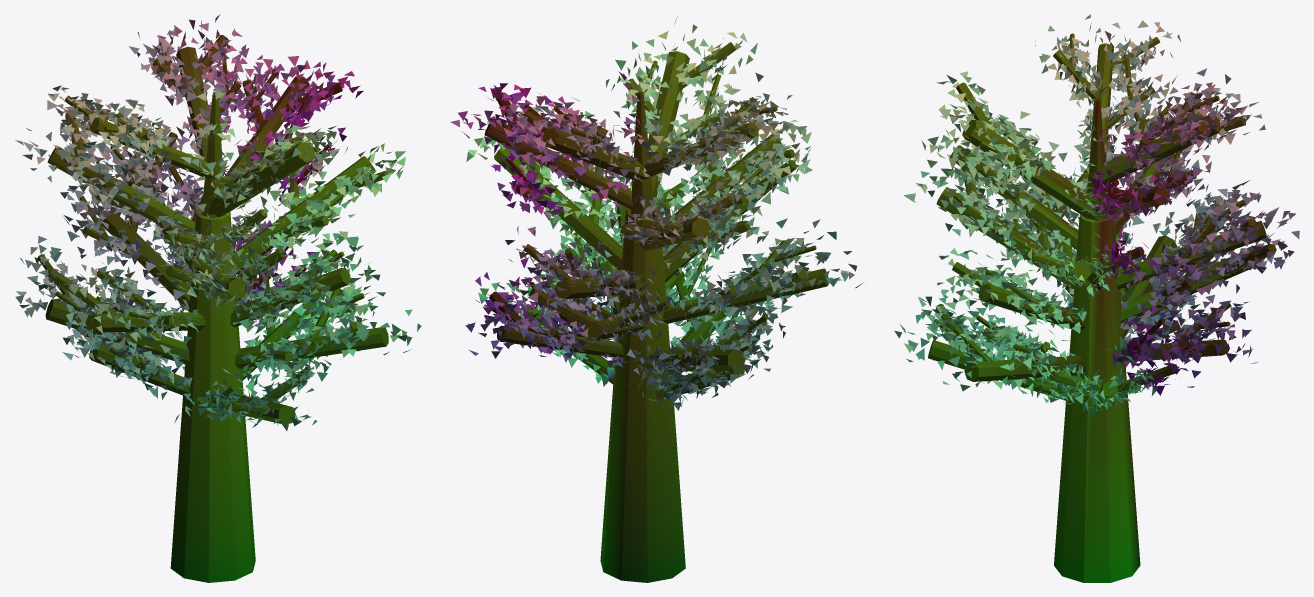
Rendered from ecological_broadleaf_old_02.glb.
3 renders of one model, left to right at view 1: azimuth 30°, elevation 25°; view 2: azimuth 150°, elevation 25°; view 3: azimuth 270°, elevation 25°, orthographic.
Parts seen in each view (by area): view 1: ecological_broadleaf_old_02; view 2: ecological_broadleaf_old_02; view 3: ecological_broadleaf_old_02.
Boxes of the visible parts, x1,y1,x2,y2 form: ecological_broadleaf_old_02: (15,14,421,582); ecological_broadleaf_old_02: (450,16,863,582); ecological_broadleaf_old_02: (894,14,1299,582).
Bounding box in the file's own units: 40.03 × 51.66 × 39.07.
